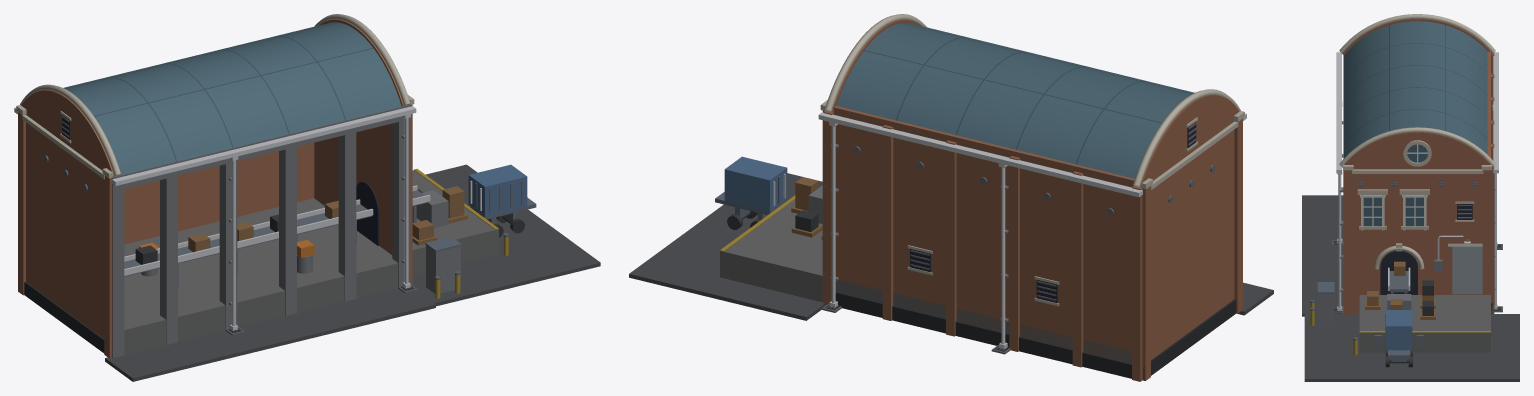
File: assembly_plant_lvl1.glb
The picture shows the model from 3 angles, left to right: view 1: azimuth 30°, elevation 25°; view 2: azimuth 150°, elevation 25°; view 3: azimuth 270°, elevation 25°; orthographic projection. The views are drawn at different scales.
Visible parts, largest first — view 1: assembly_plant, assembly_plant_Glass; view 2: assembly_plant, assembly_plant_Glass; view 3: assembly_plant, assembly_plant_Glass.
Part boxes in pixels (<box>): assembly_plant: <box>14,14,600,381</box>; assembly_plant_Glass: <box>64,22,401,174</box>; assembly_plant: <box>629,14,1273,381</box>; assembly_plant_Glass: <box>836,23,1194,178</box>; assembly_plant: <box>1302,14,1519,381</box>; assembly_plant_Glass: <box>1344,21,1487,226</box>.
Size of the model in its own units: 0.7755 by 0.369 by 0.3882.
